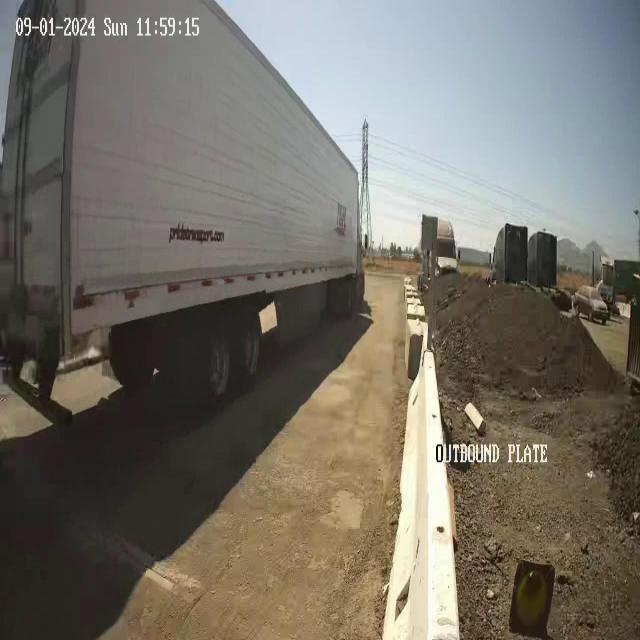TRUCK_IN: (1, 1, 365, 414)
